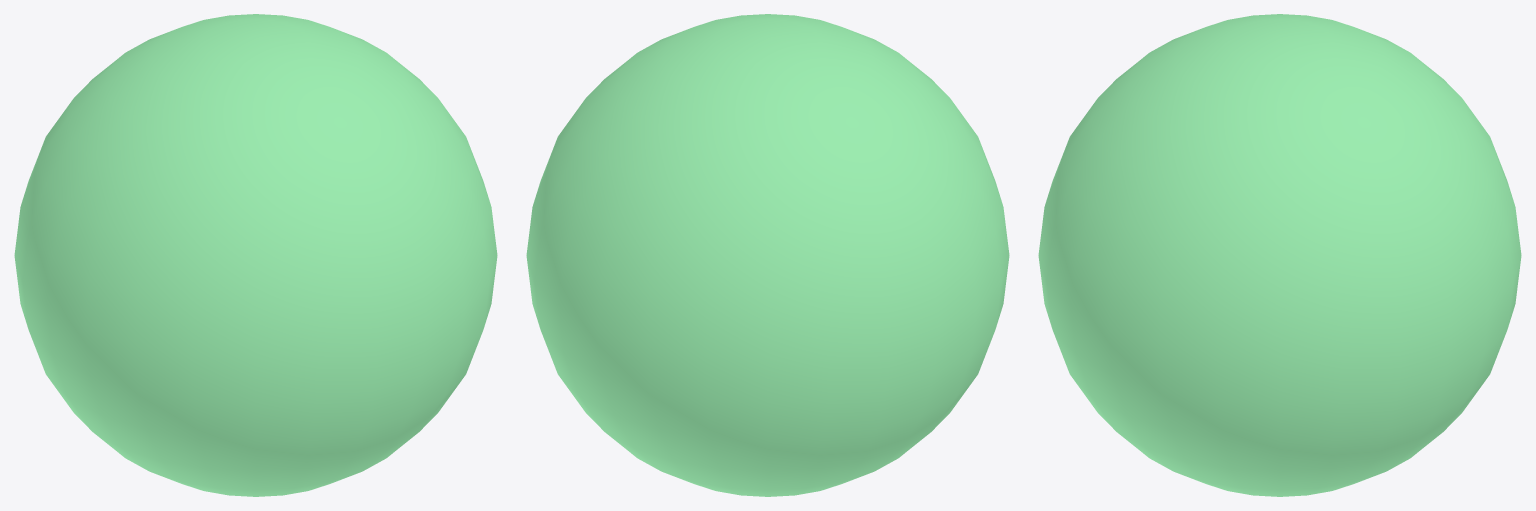
The model's file is mat-unlit.gltf.
The picture shows the model from 3 angles, left to right: view 1: azimuth 30°, elevation 25°; view 2: azimuth 150°, elevation 25°; view 3: azimuth 270°, elevation 25°; orthographic projection.
Size of the model in its own units: 2 by 2 by 2.
